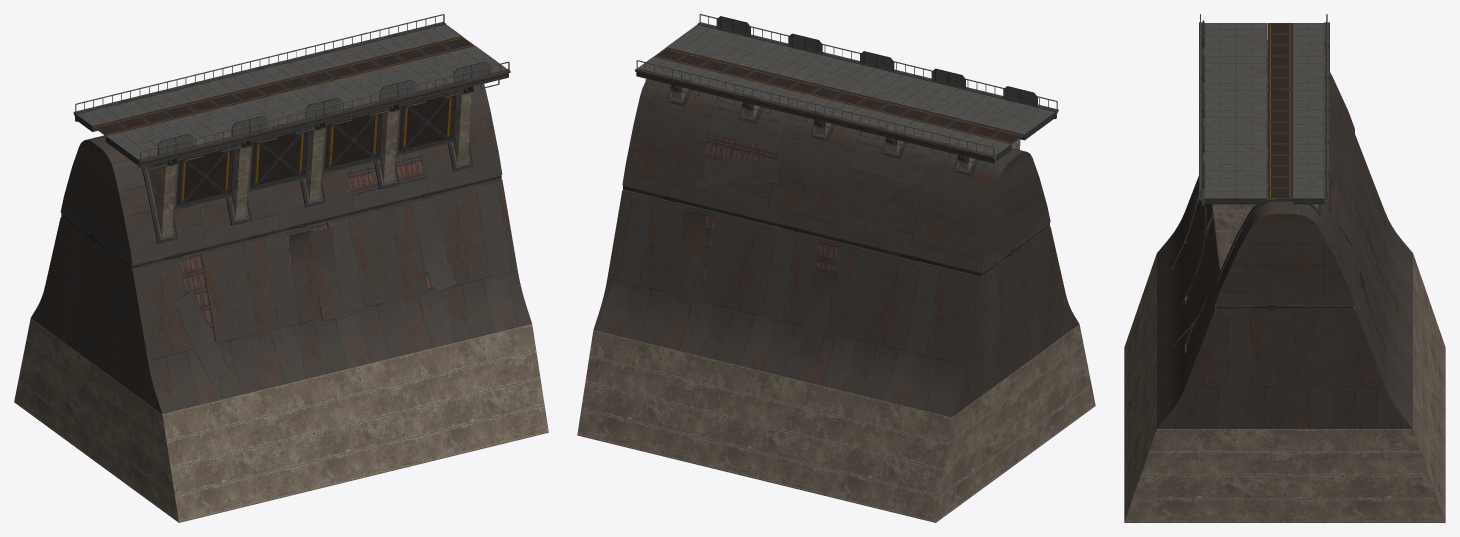
The model's file is Wall1A.fbx.
3 views of the same model, side by side, from view 1: azimuth 30°, elevation 25°; view 2: azimuth 150°, elevation 25°; view 3: azimuth 270°, elevation 25° (orthographic). The views are drawn at different scales.
Parts seen in each view (by area): view 1: polySurface896; view 2: polySurface896; view 3: polySurface896.
Boxes of the visible parts, x1=… form: polySurface896: x1=14, y1=14, x2=548, y2=522; polySurface896: x1=577, y1=14, x2=1095, y2=522; polySurface896: x1=1124, y1=14, x2=1445, y2=522.
Size of the model in its own units: 4000 by 3587 by 3090.
